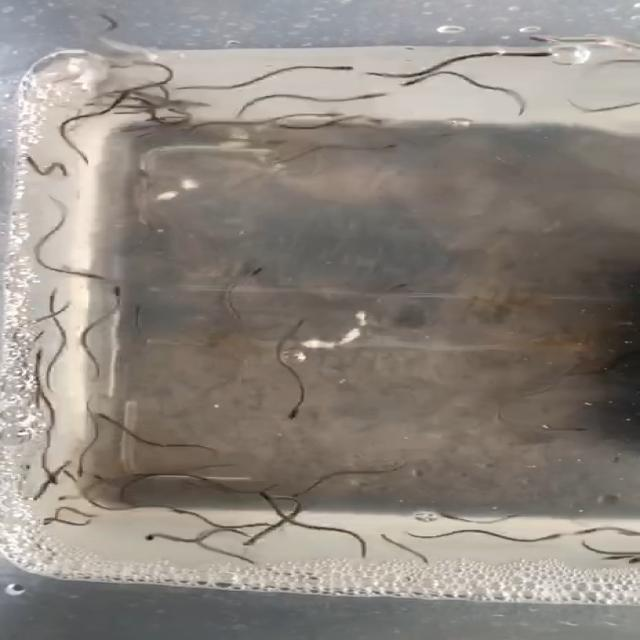inactive_glass_eel: (64, 264, 106, 284), (370, 135, 406, 157), (96, 14, 126, 36), (35, 463, 60, 489), (20, 329, 46, 353), (305, 108, 349, 122), (52, 491, 93, 506), (280, 483, 318, 499), (316, 63, 364, 75), (547, 531, 595, 543), (523, 32, 567, 45), (357, 88, 390, 105), (29, 345, 57, 364), (261, 489, 284, 511), (398, 73, 434, 87), (125, 301, 149, 321), (108, 90, 134, 108), (517, 50, 562, 60), (110, 281, 132, 301), (280, 403, 303, 422), (44, 286, 68, 304), (602, 548, 629, 564), (615, 553, 640, 570), (74, 455, 93, 477), (246, 264, 270, 281), (91, 411, 118, 426), (241, 533, 266, 549), (142, 530, 170, 543), (16, 152, 40, 167), (436, 511, 462, 522)
